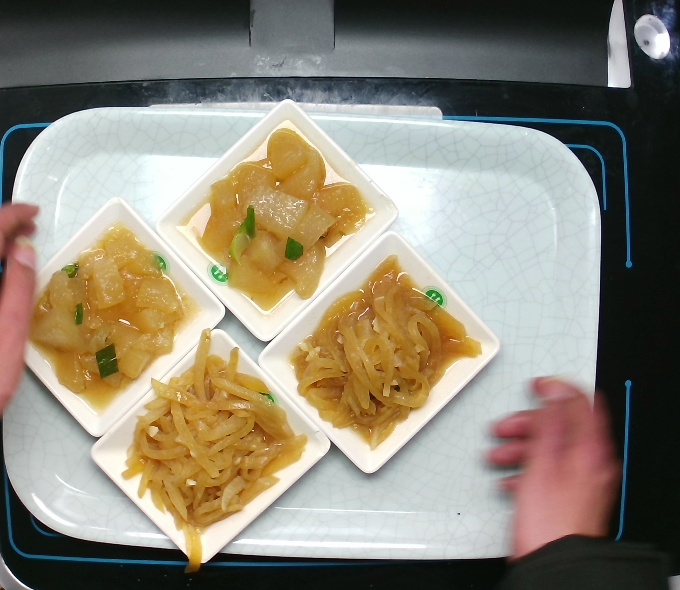wcq-DongGua: (178, 115, 376, 314), (32, 215, 194, 406)
wcq-LuoBoSi: (126, 329, 306, 573), (291, 253, 484, 452)
